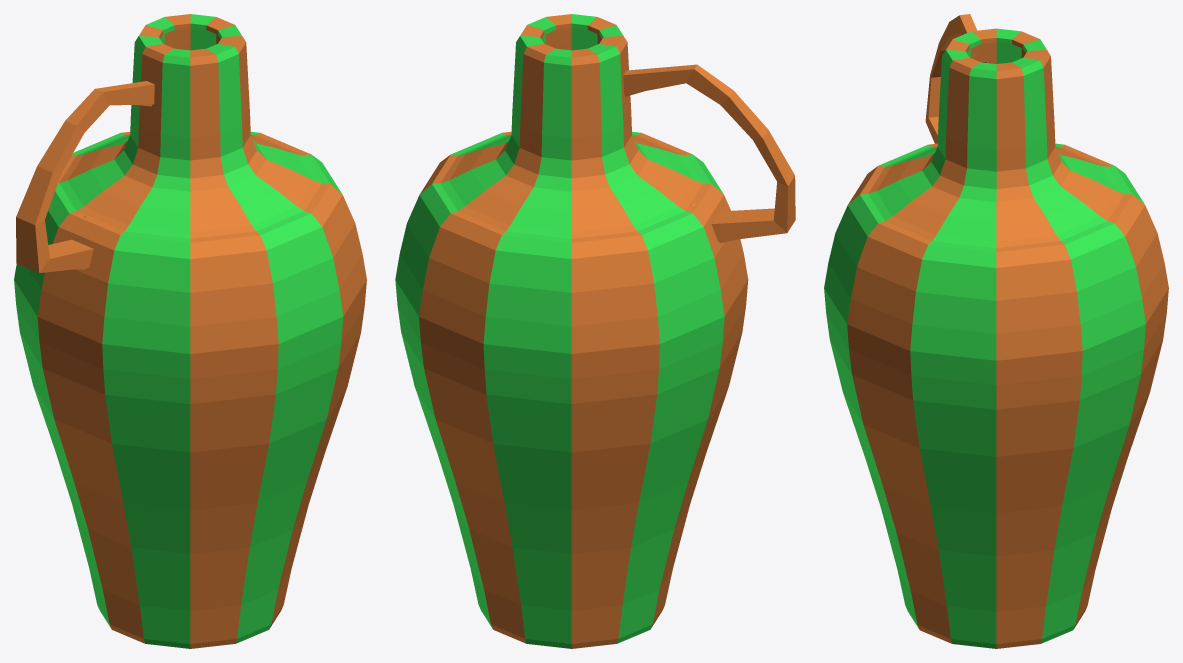
File: CtrlAlt_Vase_6.fbx
The picture shows the model from 3 angles, left to right: view 1: azimuth 30°, elevation 25°; view 2: azimuth 150°, elevation 25°; view 3: azimuth 270°, elevation 25°; orthographic projection. The views are drawn at different scales.
Visible parts, largest first — view 1: Cube; view 2: Cube; view 3: Cube.
Part boxes in pixels (x1,y1,x2,y2): Cube: (14,14,366,648); Cube: (395,14,795,648); Cube: (824,14,1168,648).
Bounding box in the file's own units: 238 × 378 × 209.
